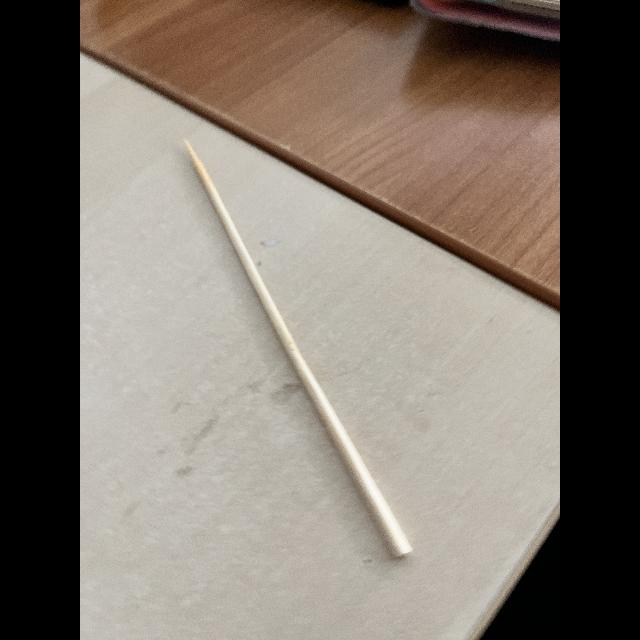stick: (179, 142, 415, 562)
